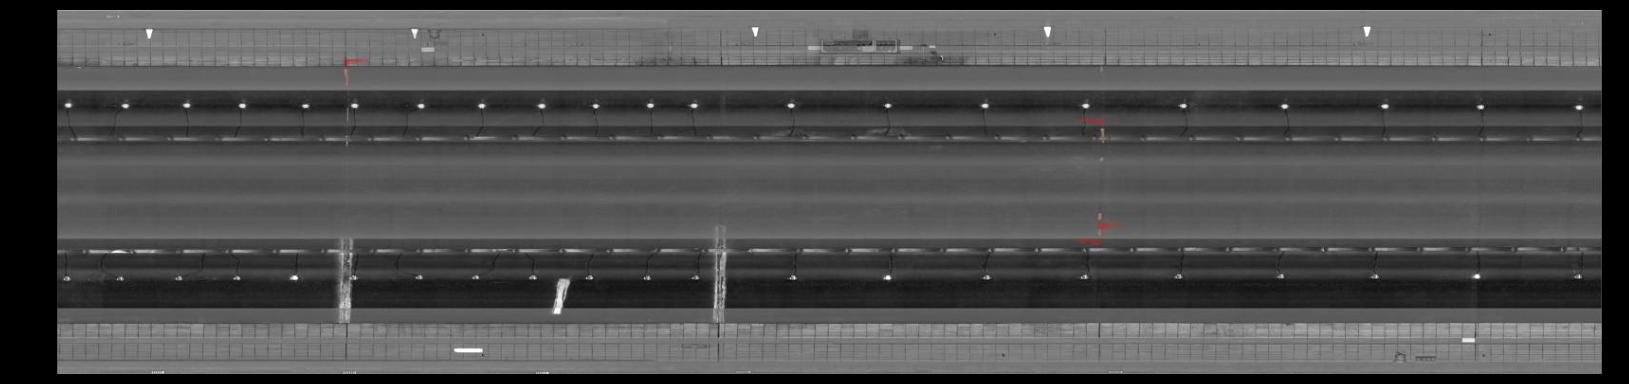light: (779, 99, 804, 112), (1167, 269, 1189, 283), (877, 269, 899, 283), (1568, 268, 1587, 283), (1364, 269, 1384, 283), (1074, 99, 1095, 112), (976, 270, 996, 283), (1468, 268, 1486, 283), (877, 98, 896, 112), (1270, 269, 1289, 282), (1275, 100, 1294, 113), (974, 99, 994, 112), (466, 270, 485, 283), (61, 270, 76, 286), (1174, 99, 1192, 112), (285, 270, 302, 283), (1471, 101, 1492, 112), (1570, 101, 1588, 113), (1376, 100, 1394, 112), (233, 99, 251, 111), (411, 99, 430, 111), (111, 269, 127, 283), (783, 272, 803, 283), (177, 99, 196, 110), (117, 98, 134, 111), (226, 271, 244, 283), (533, 99, 551, 111), (523, 272, 541, 283), (1075, 272, 1093, 283), (580, 271, 595, 283), (684, 99, 702, 109), (588, 99, 604, 111), (61, 99, 77, 111), (687, 272, 703, 283), (642, 100, 659, 111), (474, 100, 490, 111), (640, 272, 656, 283), (411, 272, 427, 283), (347, 98, 363, 109), (171, 272, 186, 283), (297, 100, 312, 111), (348, 272, 362, 283)
